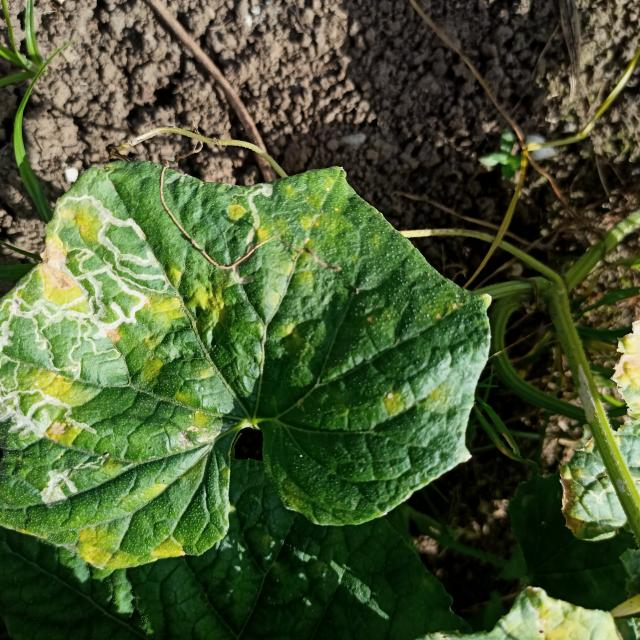disease_cucumber: (0, 188, 234, 468), (218, 176, 355, 310), (73, 483, 190, 571), (373, 377, 459, 424)
